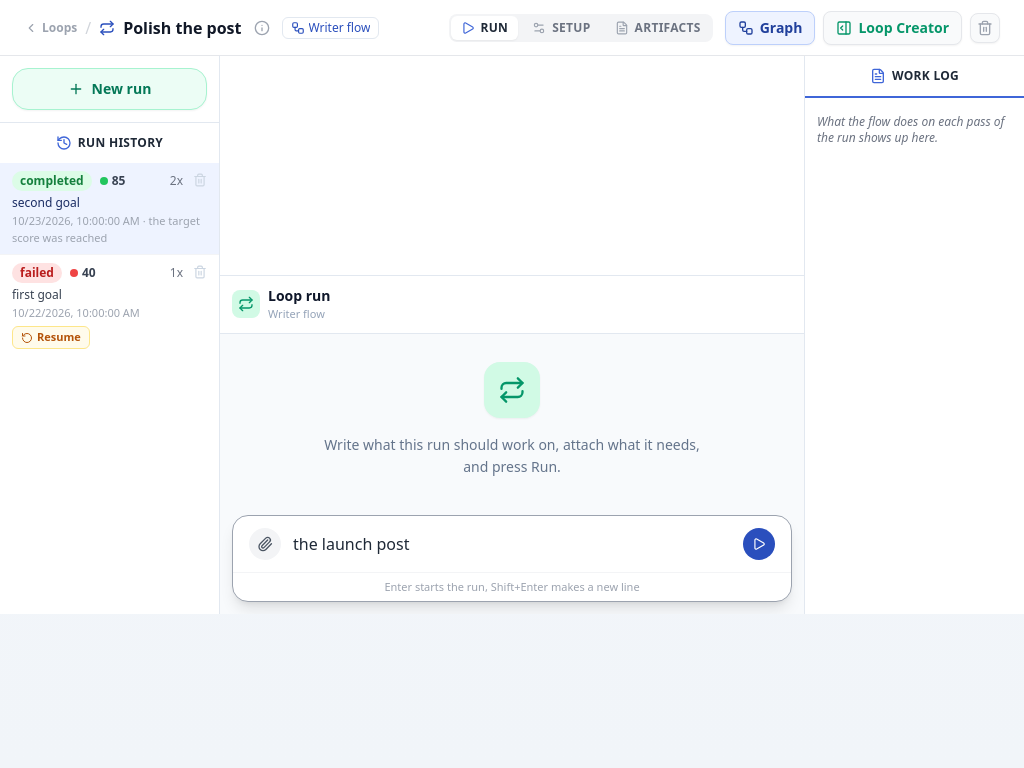
it: LoopDetail: a loop on a page of its own › lists the runs on the left and opens another one at its own address
Check: the text "second goal" is shown, box left=12, top=194, right=80, bottom=211
Click the text "first goal" at (37, 294), box left=12, top=286, right=62, bottom=303
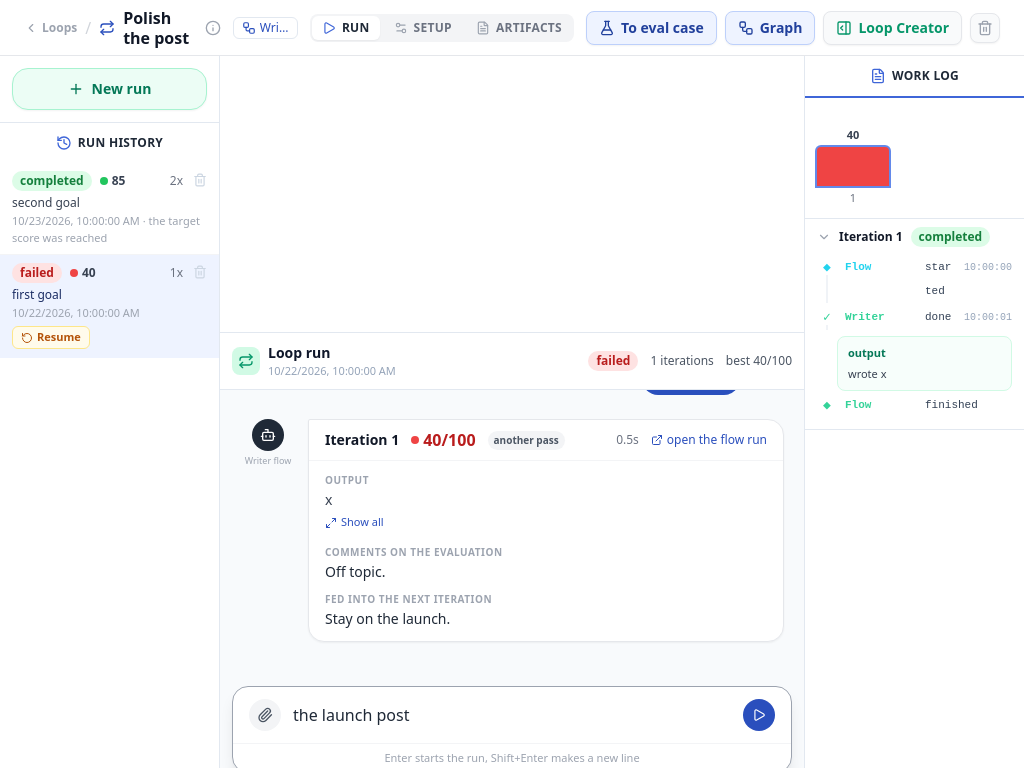
Check: the button "Resume" is shown, box left=12, top=326, right=90, bottom=349
Check: the element with test id "loop-evaluation-1" shows "Off topic.", box left=325, top=562, right=385, bottom=581
